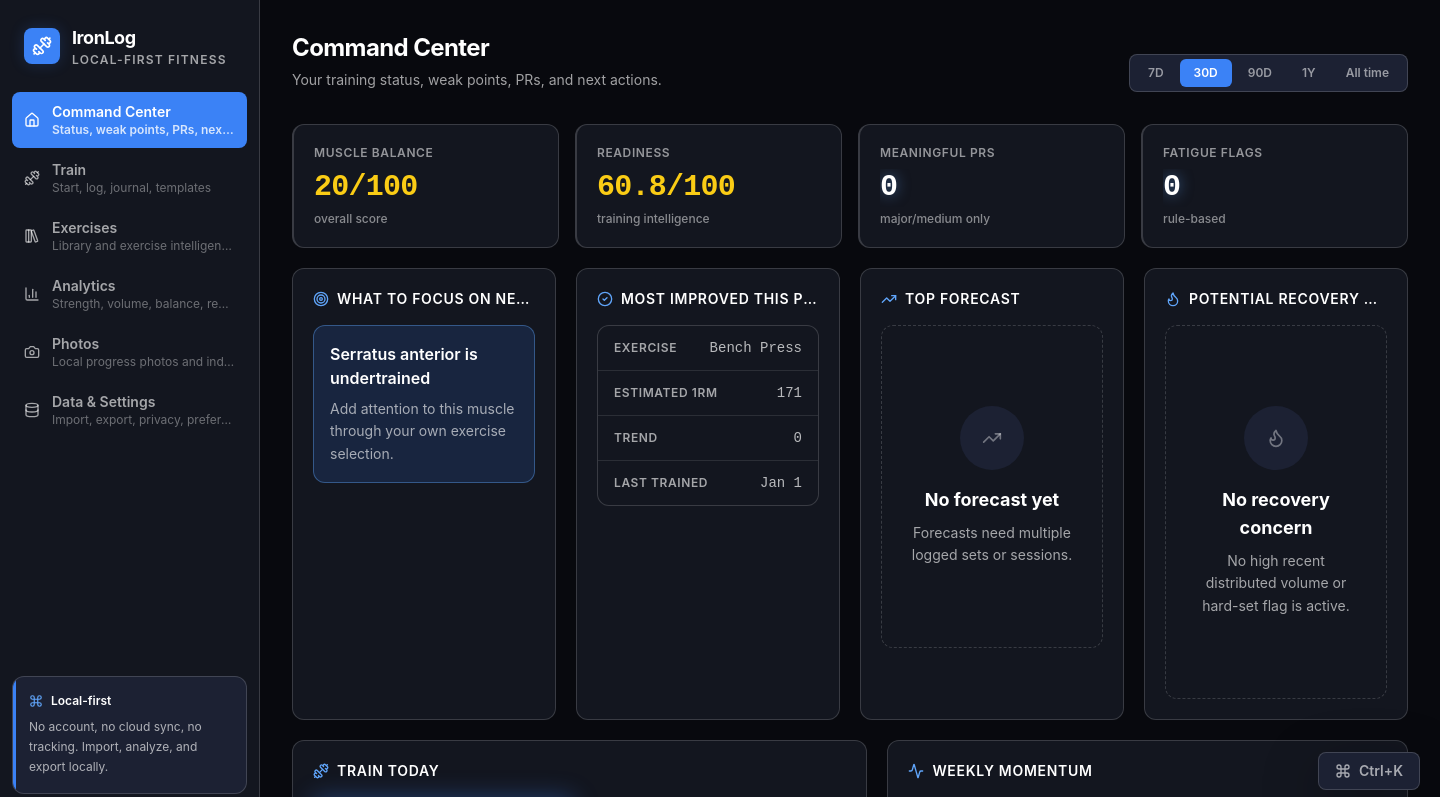
Test case: IronLog desktop command center › shows imported history in the training journal
This screenshot has width=1440, height=797.
Click the button "Train Start, log, journal, templates".
click(130, 178)  # box [12,150,247,206]
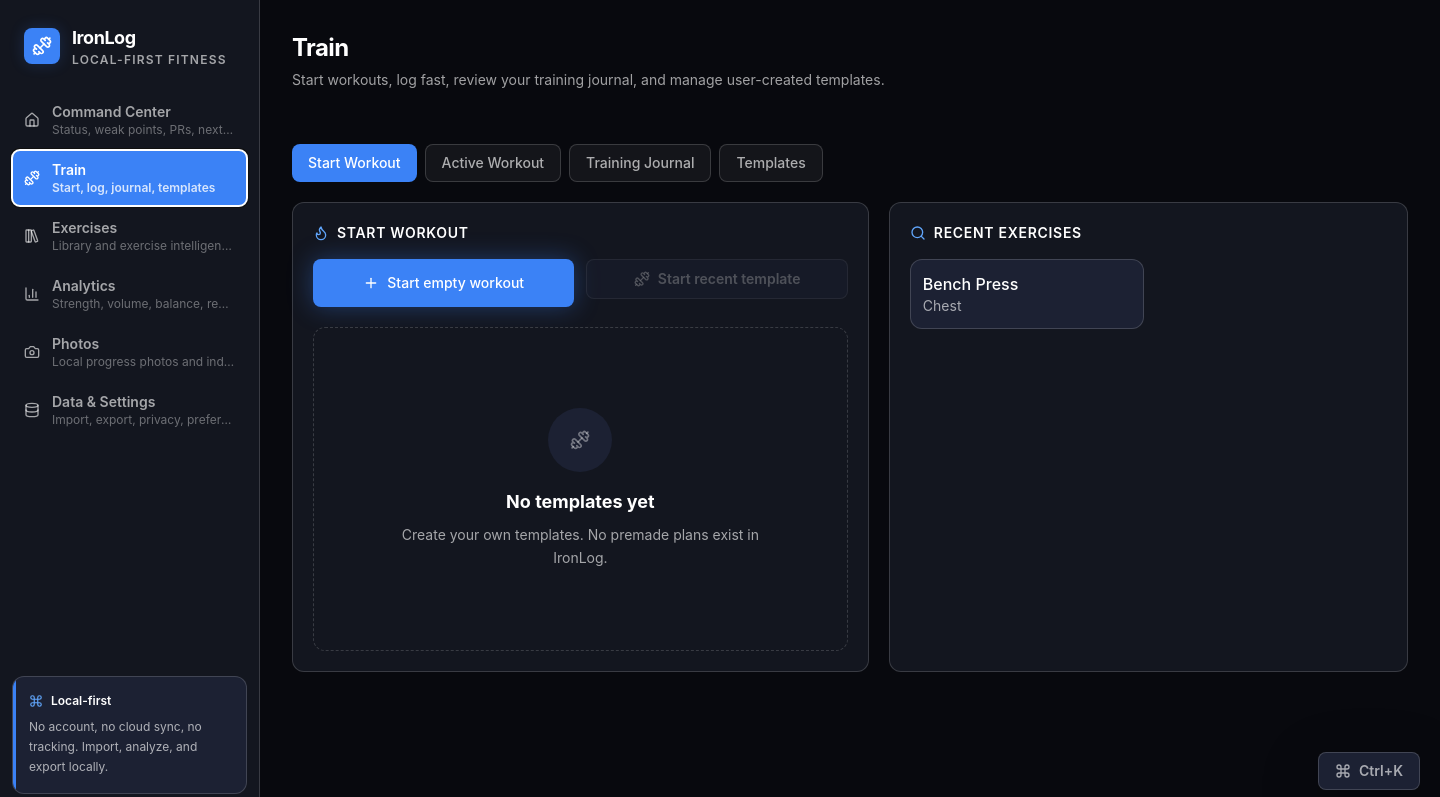
Click the button "Training Journal".
click(640, 163)  # box [569,144,712,182]
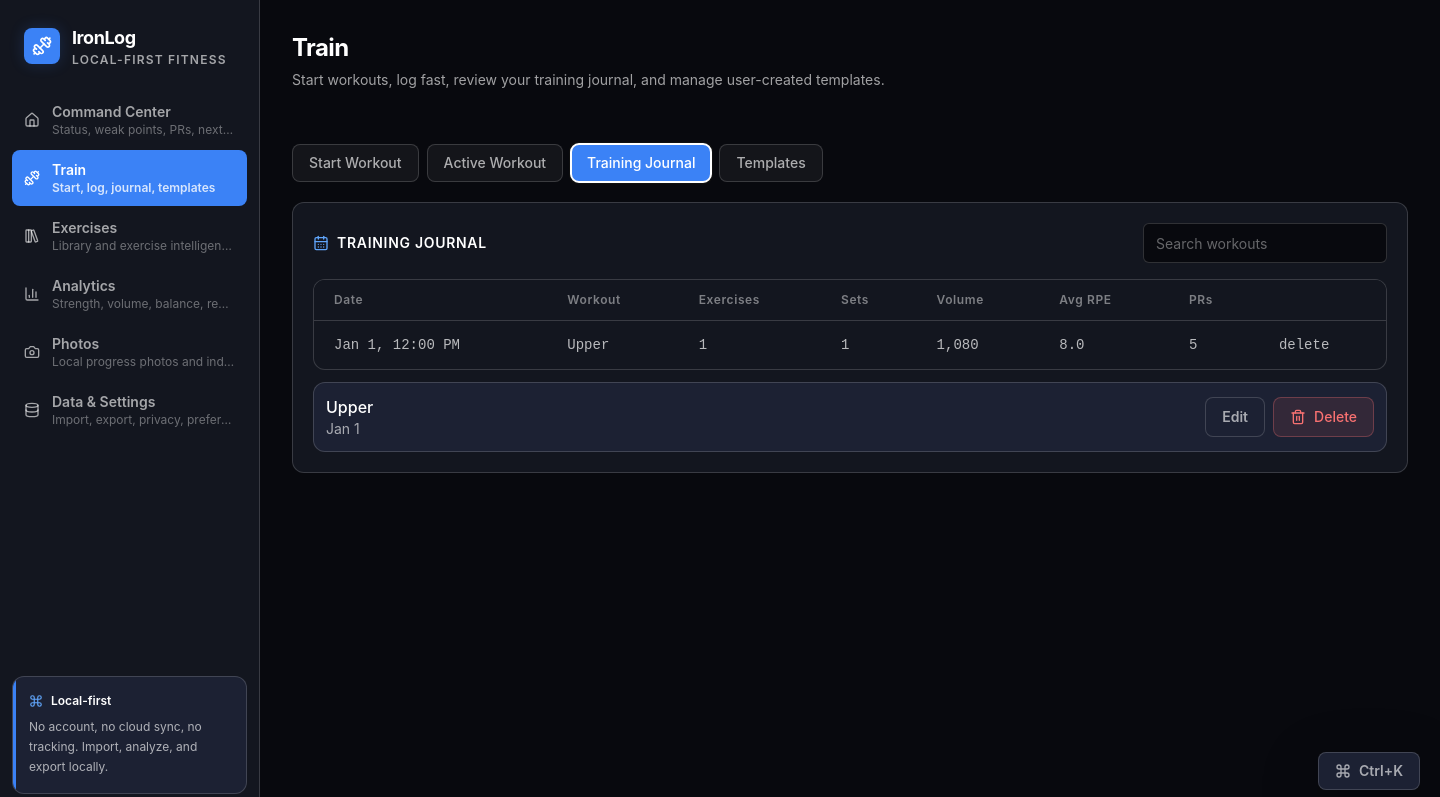
expect the text "Jan 1, 12:00 PM" is shown: met, box [314,320,547,369]
expect the text "Upper" is shown: met, box [547,320,679,369]
